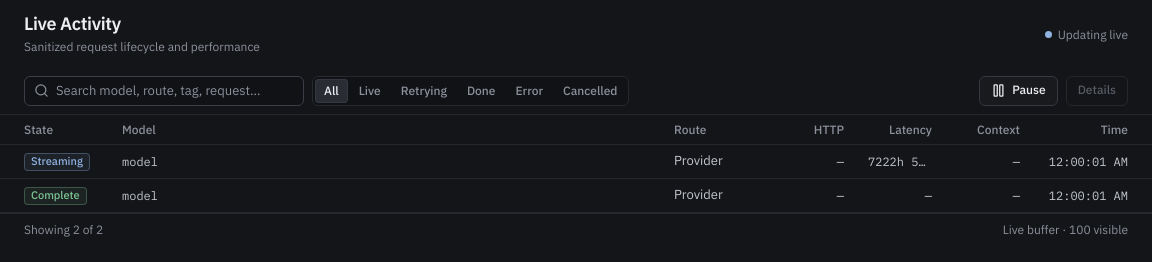
ActivityPage rows and inspector › marks columns, selects with roving tabindex, and opens on Enter
Click the row "Complete model Provider — — — 12:00:01 AM" at (576, 196), box [0,178,1151,212]
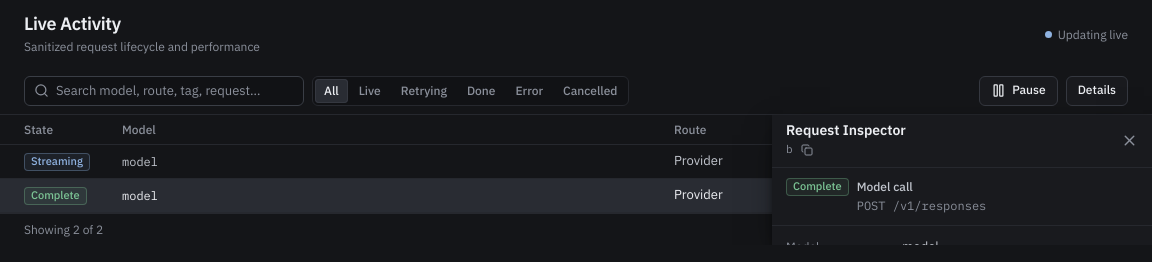
Now the element "Request Inspector" is shown, box [772,114,1151,245]
